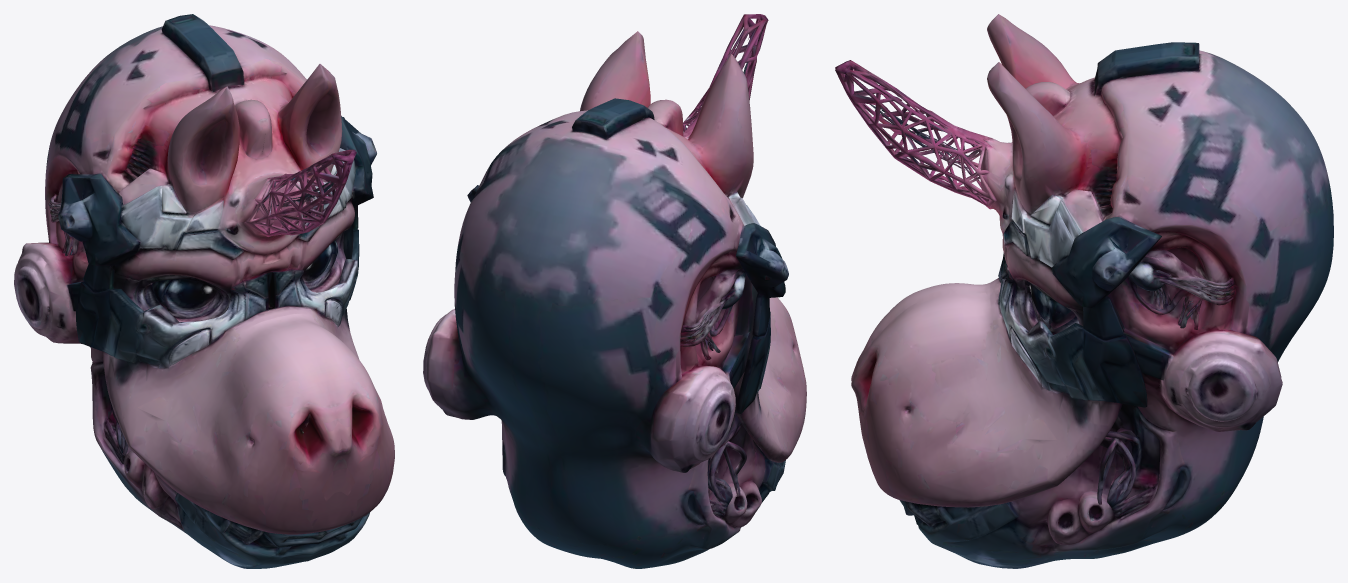
Rendered from unibrowserloadicorn.glb.
The picture shows the model from 3 angles, left to right: view 1: azimuth 30°, elevation 25°; view 2: azimuth 150°, elevation 25°; view 3: azimuth 270°, elevation 25°; orthographic projection. The views are drawn at different scales.
Parts seen in each view (by area): view 1: unibrowserloadicorn; view 2: unibrowserloadicorn; view 3: unibrowserloadicorn.
Boxes of the visible parts, x1,y1,x2,y2 form: unibrowserloadicorn: (14,14,394,568); unibrowserloadicorn: (423,14,806,568); unibrowserloadicorn: (835,14,1333,568).
Size of the model in its own units: 1.29 by 1.91 by 1.68.
Materials: 2 (2 with a texture image).
